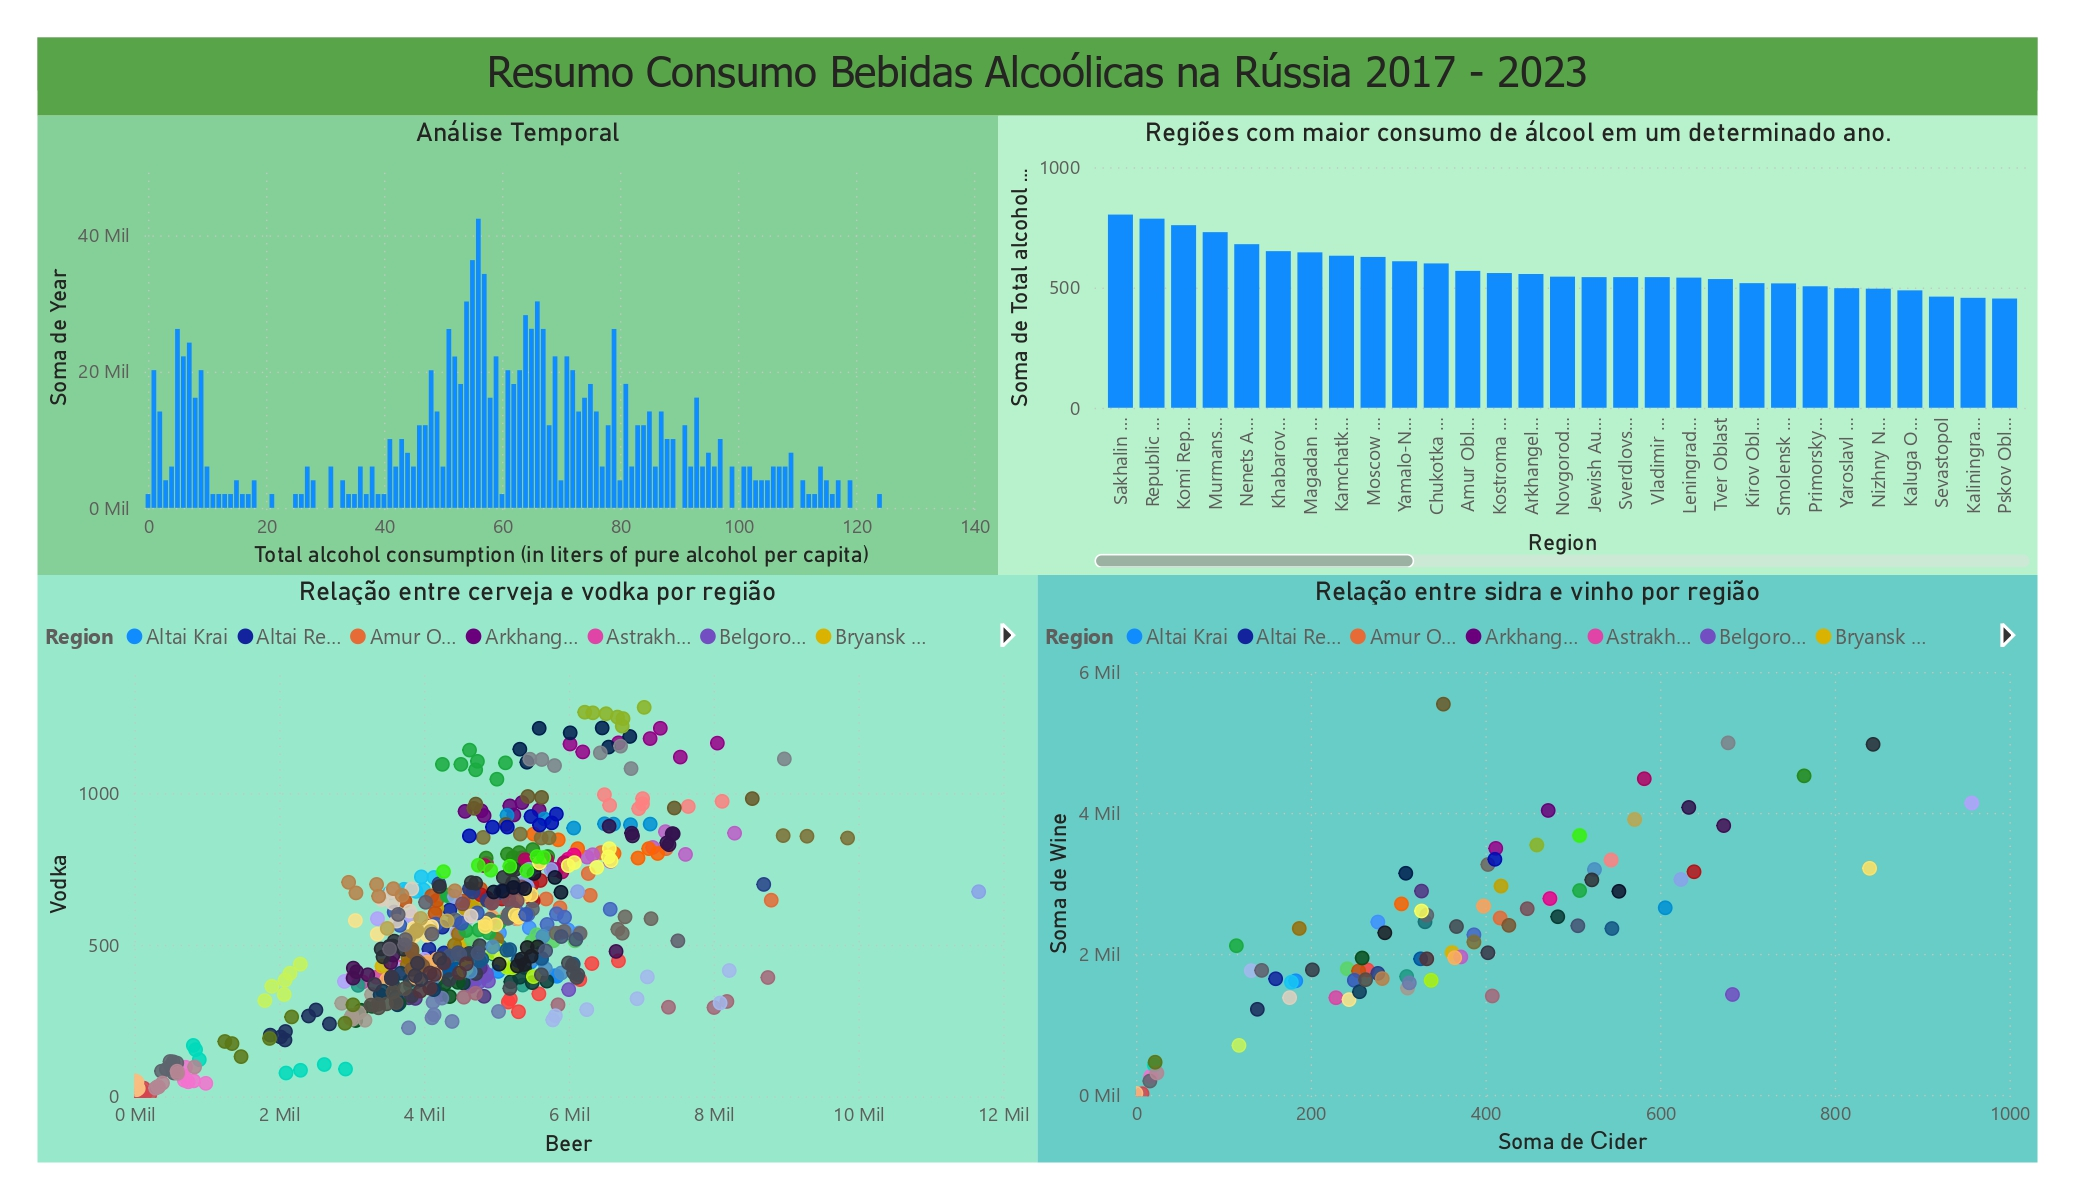

The dashboard page shown, as its layout file describes it:
{"tool":"powerbi","page":{"name":"Página 1","canvas":[1280,720],"ordinal":0},"visuals":[{"type":"textbox","box":[0,0,1280,50.4],"z":0},{"type":"columnChart","title":"Análise Temporal","fields":{"Category":["Consumption of alcoholic beverages in Russia 2017-2023.Total alcohol consumption (in liters of pure alcohol per capita)"],"Y":["Sum(Consumption of alcoholic beverages in Russia 2017-2023.Year)"]},"box":[0,50.4,614.8,294],"z":1},{"type":"columnChart","title":"Regiões com maior consumo de álcool em um determinado ano.","fields":{"Category":["Consumption of alcoholic beverages in Russia 2017-2023.Region"],"Y":["Sum(Consumption of alcoholic beverages in Russia 2017-2023.Total alcohol consumption (in liters of pure alcohol per capi"]},"box":[614.8,50.4,665.2,294],"z":2},{"type":"scatterChart","title":"Relação entre cerveja e vodka por região","fields":{"X":["Consumption of alcoholic beverages in Russia 2017-2023.Beer"],"Series":["Consumption of alcoholic beverages in Russia 2017-2023.Region"],"Y":["Consumption of alcoholic beverages in Russia 2017-2023.Vodka"]},"box":[0,344.4,640,376.3],"z":3},{"type":"scatterChart","title":"Relação entre sidra e  vinho por região","fields":{"Series":["Consumption of alcoholic beverages in Russia 2017-2023.Region"],"Y":["Sum(Consumption of alcoholic beverages in Russia 2017-2023.Wine)"],"X":["Sum(Consumption of alcoholic beverages in Russia 2017-2023.Сider)"]},"box":[640,344,640,376],"z":4}]}

Visuals, with their boxes in screenshot pixels (x1, y1, x2, y2):
textbox: {"left": 38, "top": 38, "right": 2038, "bottom": 116}
"Análise Temporal" columnChart: {"left": 38, "top": 116, "right": 998, "bottom": 576}
"Regiões com maior consumo de álcool em um determinado ano." columnChart: {"left": 998, "top": 116, "right": 2038, "bottom": 576}
"Relação entre cerveja e vodka por região" scatterChart: {"left": 38, "top": 576, "right": 1038, "bottom": 1162}
"Relação entre sidra e  vinho por região" scatterChart: {"left": 1038, "top": 575, "right": 2038, "bottom": 1162}
